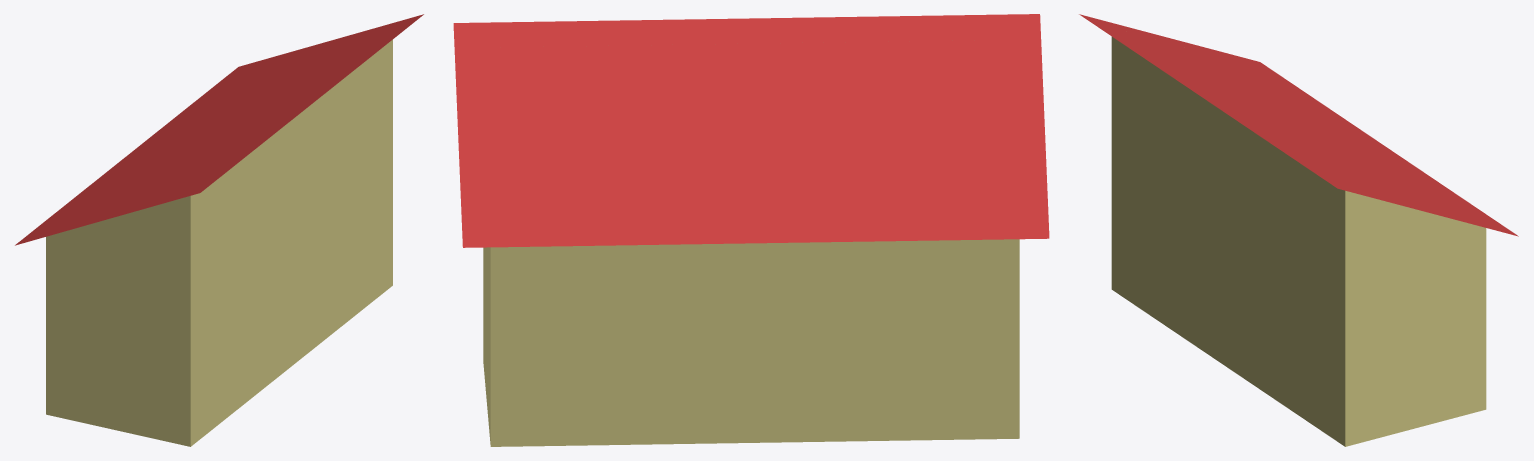
The picture shows the model from 3 angles, left to right: view 1: azimuth 30°, elevation 25°; view 2: azimuth 150°, elevation 25°; view 3: azimuth 270°, elevation 25°; orthographic projection. The views are drawn at different scales.
Size of the model in its own units: 16.48 by 13.79 by 9.39.
